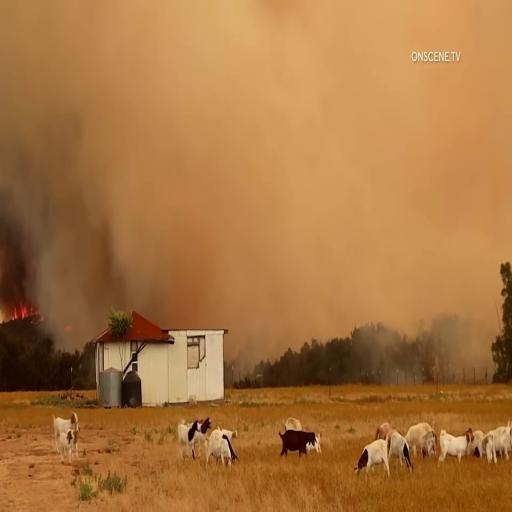fire: (2, 292, 40, 335)
smoke: (88, 122, 192, 323)
